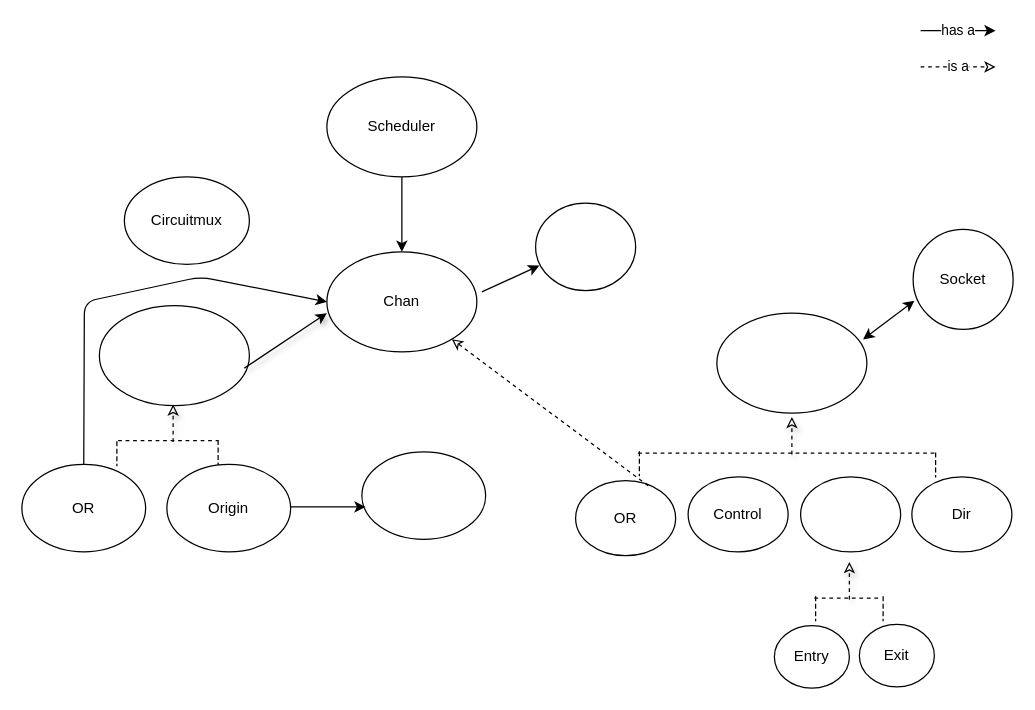
Some shapes in this 1035 by 710 pixel diagram are drawn without their labels. Here are the shapes that lost their labels. From the top down, the centre of each, then its label:
At point 585,246: "Peer Relay".
At point 173,355: "Circuit".
At point 791,362: "Conn".
At point 423,495: "Path".
At point 850,514: "Edge".
